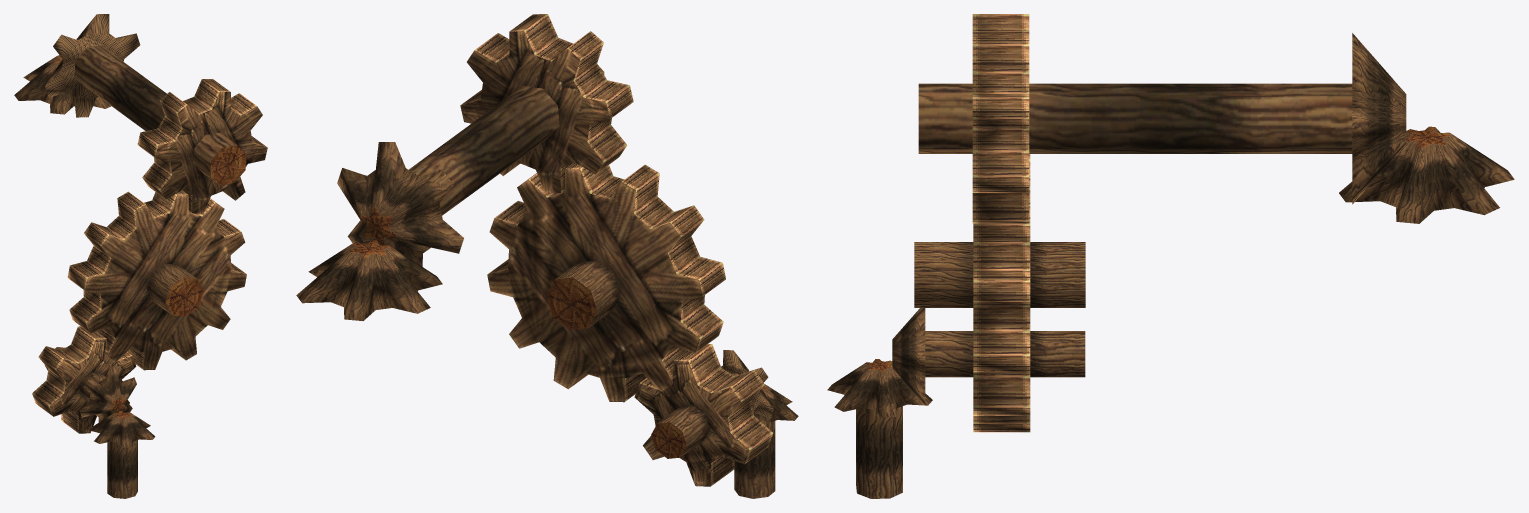
File: INST_SWORDLIGHT_GEARSC.fbx
3 views of the same model, side by side, from view 1: azimuth 30°, elevation 25°; view 2: azimuth 150°, elevation 25°; view 3: azimuth 270°, elevation 25° (orthographic). The views are drawn at different scales.
Visible parts, largest first — view 1: INST_SWORDLIGHT_GEARSC; view 2: INST_SWORDLIGHT_GEARSC; view 3: INST_SWORDLIGHT_GEARSC.
Boxes of the visible parts, x1=… form: INST_SWORDLIGHT_GEARSC: x1=14, y1=14, x2=267, y2=498; INST_SWORDLIGHT_GEARSC: x1=296, y1=14, x2=798, y2=498; INST_SWORDLIGHT_GEARSC: x1=827, y1=14, x2=1514, y2=498.
Size of the model in its own units: 28251 by 43197 by 48392.
Materials: 4 (4 with a texture image).
